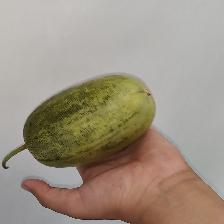gua: (46, 97, 148, 145)
